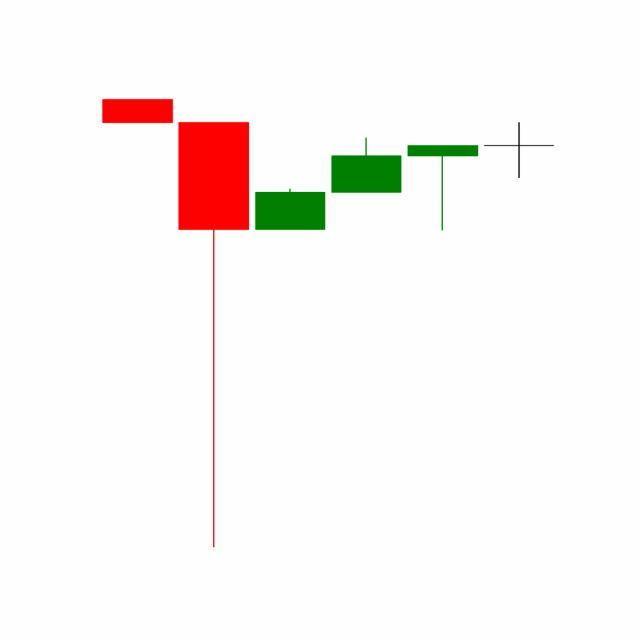Hammer: (404, 145, 482, 233)
